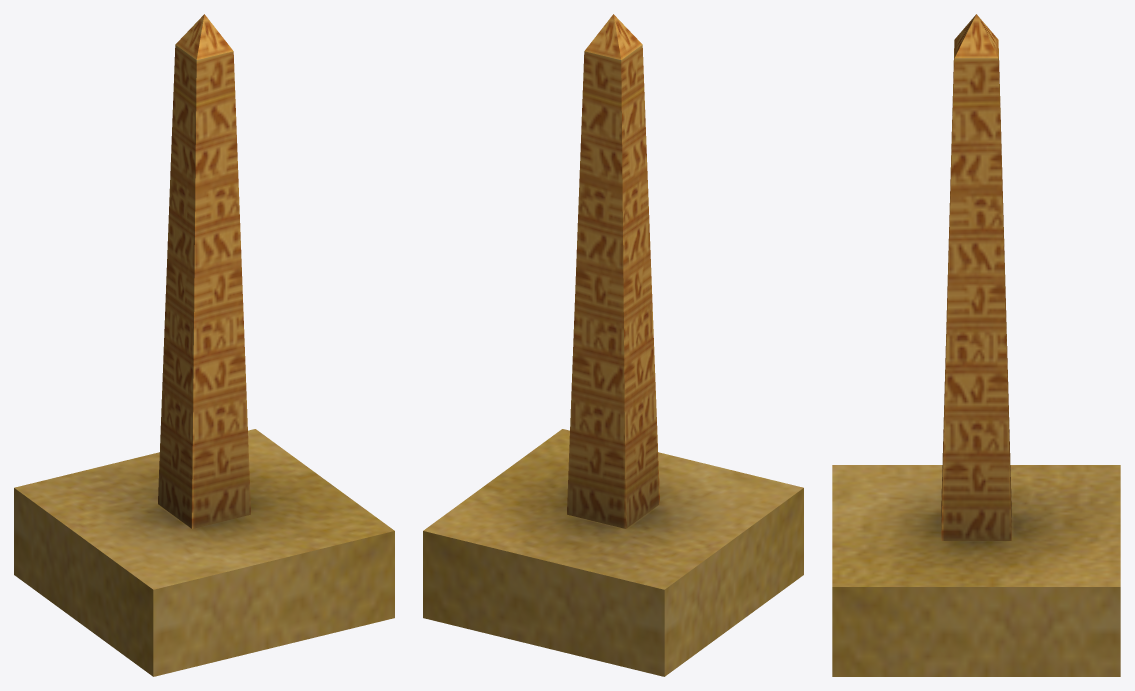
File: egy_tile_boundary_oblisk.obj
3 views of the same model, side by side, from view 1: azimuth 30°, elevation 25°; view 2: azimuth 150°, elevation 25°; view 3: azimuth 270°, elevation 25° (orthographic). The views are drawn at different scales.
Parts seen in each view (by area): view 1: tile_boundary_oblisk; view 2: tile_boundary_oblisk; view 3: tile_boundary_oblisk.
Part boxes in pixels (x1,y1,x2,y2): tile_boundary_oblisk: (14,14,394,676); tile_boundary_oblisk: (423,14,803,676); tile_boundary_oblisk: (832,14,1120,676).
Size of the model in its own units: 1 by 2.31 by 1.
Materials: 1 (1 with a texture image).
